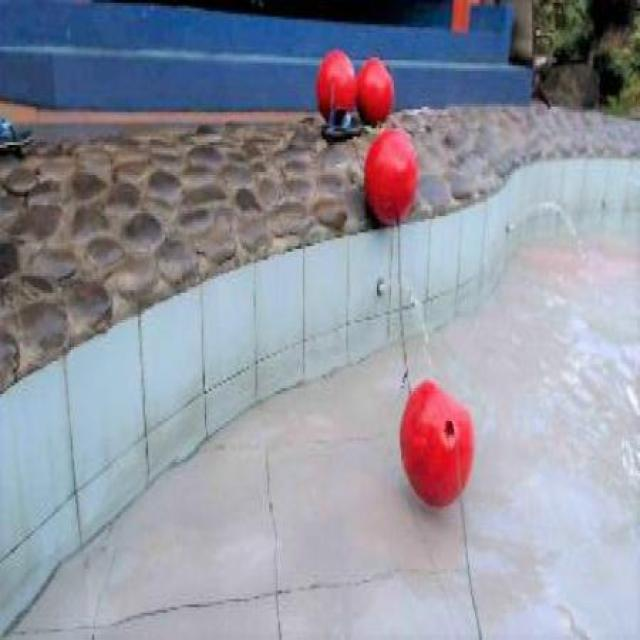buoy: (398, 379, 472, 507), (363, 127, 419, 223), (317, 47, 357, 121), (355, 55, 393, 126)
